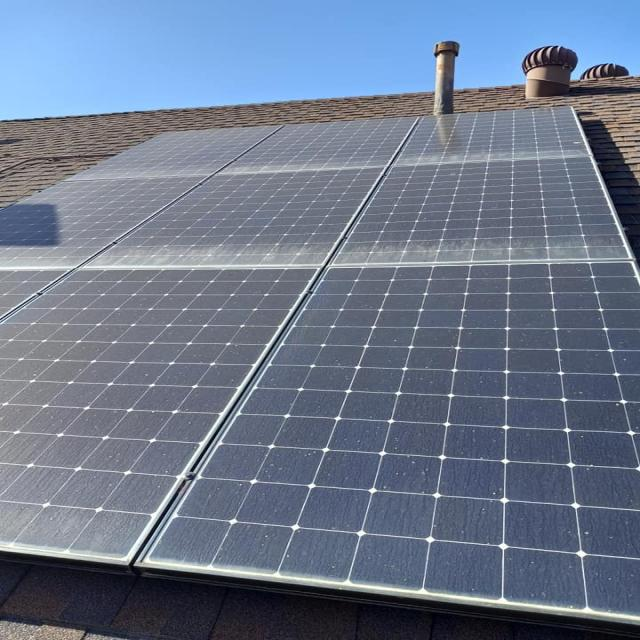dust-solar-panel: (0, 104, 640, 632)
